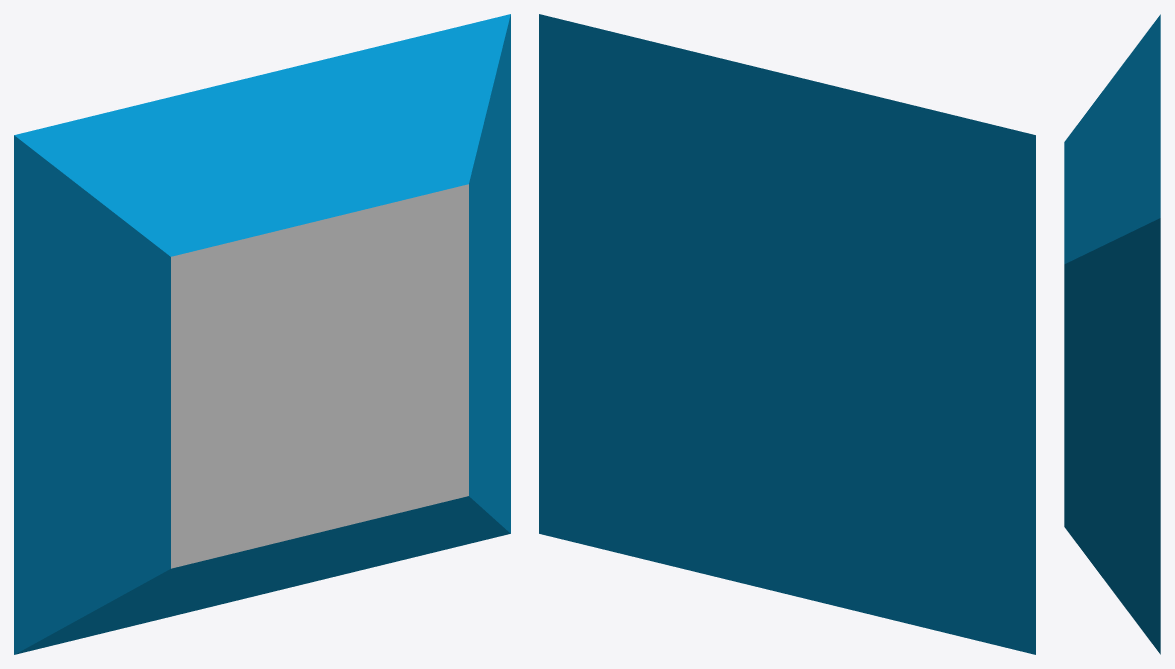
Rendered from LPWallSwitch.fbx.
3 views of the same model, side by side, from view 1: azimuth 30°, elevation 25°; view 2: azimuth 150°, elevation 25°; view 3: azimuth 270°, elevation 25° (orthographic). The views are drawn at different scales.
Visible parts, largest first — view 1: Plane; view 2: Plane; view 3: Plane.
Part boxes in pixels (left/top/right/bottom): Plane: left=14, top=14, right=510, bottom=654; Plane: left=539, top=14, right=1035, bottom=654; Plane: left=1064, top=14, right=1160, bottom=654.
Size of the model in its own units: 25 by 5 by 25.
